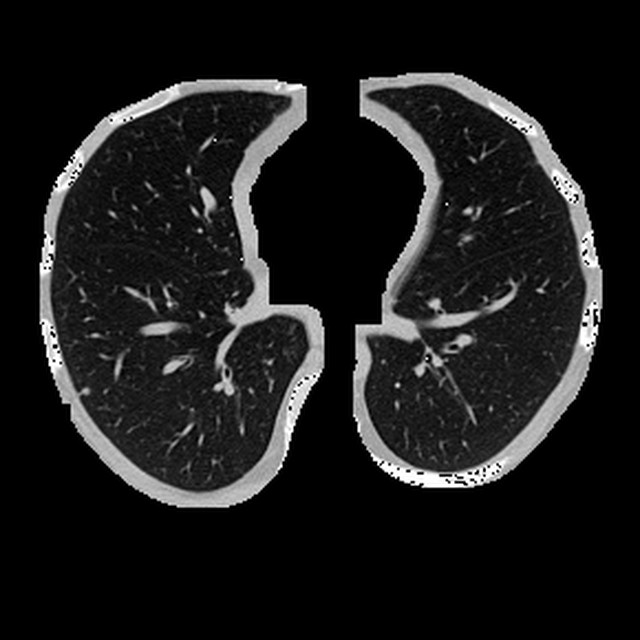PN: (82, 386, 90, 395)
